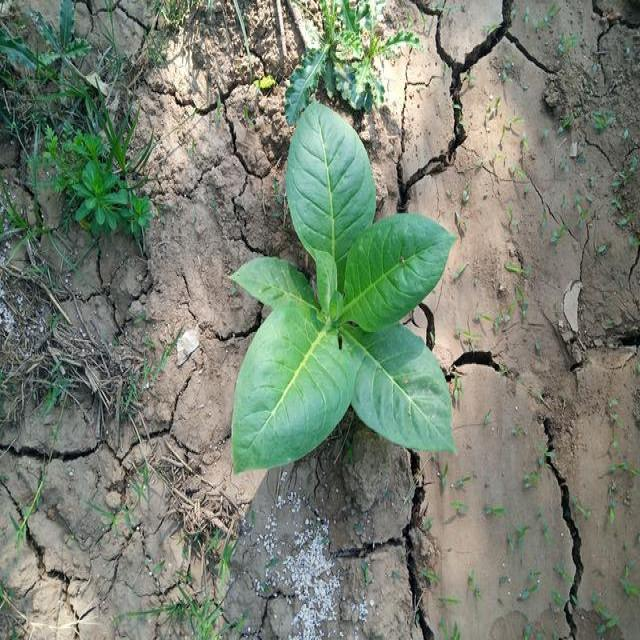crop: (224, 91, 462, 473)
